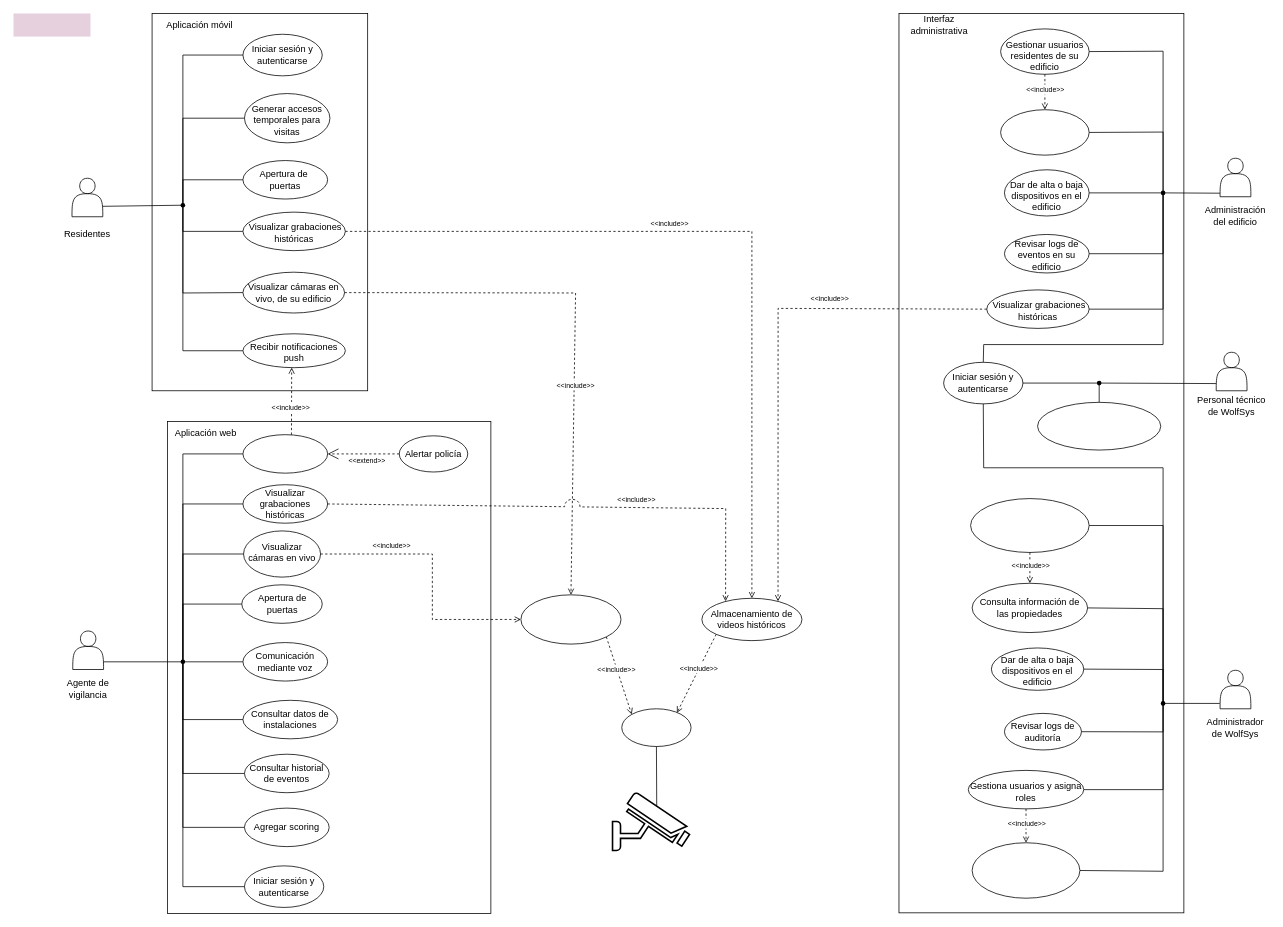
Image size: 1283x927. Some labels were removed from this diagram. Here are the shapes that lost their labels. From the top down, the centre of each, then its label:
At (51,24): "Diagrama de casos de uso".
At (1044,132): "Consulta datos de los residentes de su edificio".
At (1099,426): "Configurar y gestionar equipos en instalaciones".
At (285,453): "Registrar incidentes".
At (1029,525): "Gestionar propiedades y configuración de servicios contratados".
At (570,619): "Recibir streams de video en vivo".
At (656,727): "Autenticarse".
At (1025,870): "Consulta información de los distintos usuarios".
